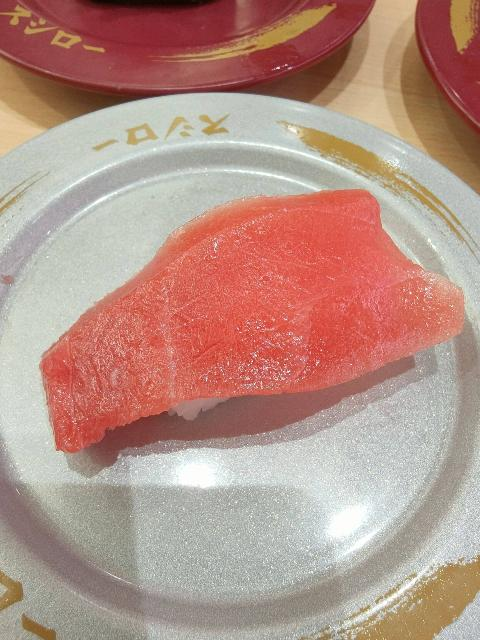janred: (0, 0, 396, 88), (418, 11, 480, 132)
janwhite: (0, 81, 480, 627)
